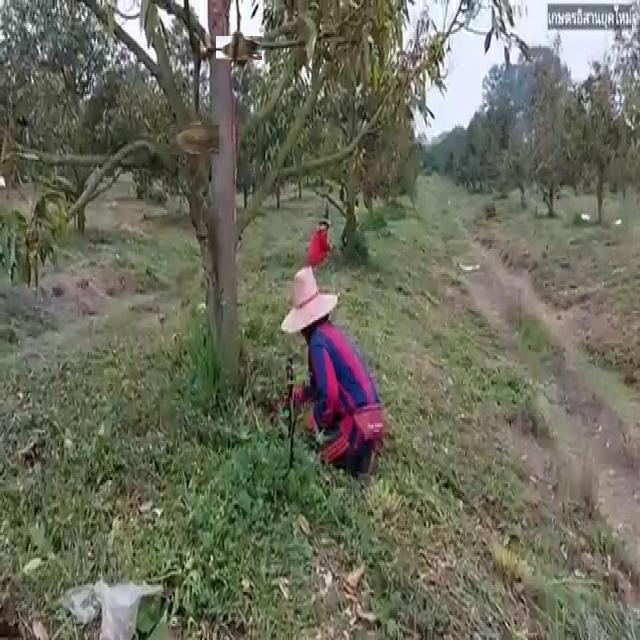durian: (175, 120, 215, 159), (222, 30, 257, 66)
